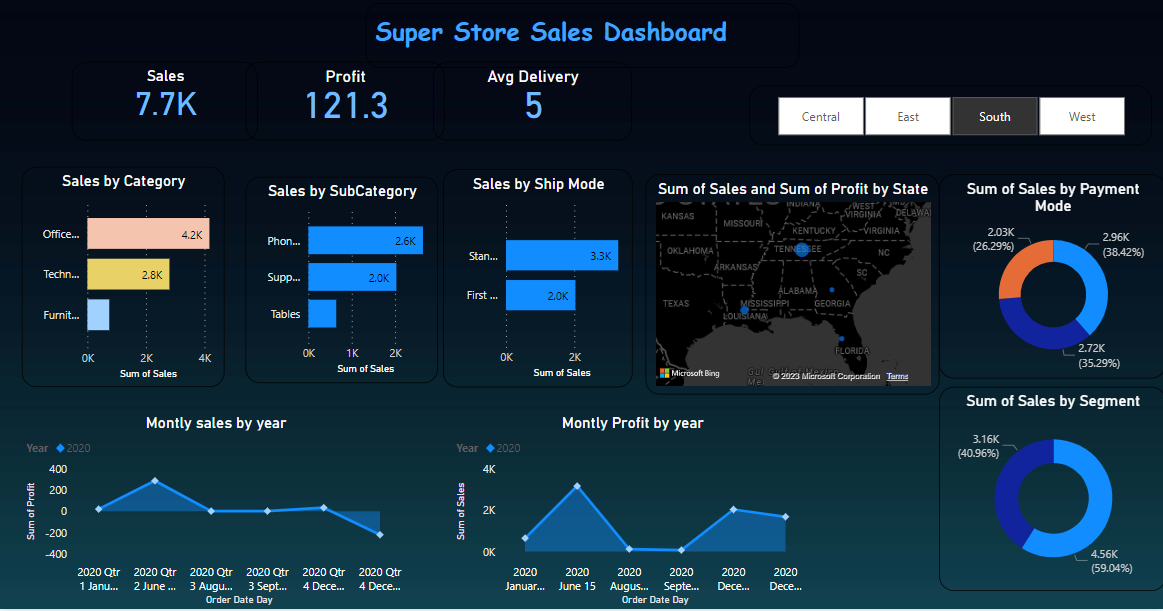

This screenshot's page, from the dashboard's own definition file:
{"tool":"powerbi","page":{"name":"Page 1","canvas":[1280,720],"ordinal":0},"visuals":[{"type":"clusteredBarChart","title":"Sales by Category","fields":{"Category":["Sheet1.Category"],"Y":["Sum(Sheet1.Sales)"]},"box":[26.4,234.7,222.2,241.7],"z":0},{"type":"clusteredBarChart","title":"Sales by SubCategory","fields":{"Y":["Sum(Sheet1.Sales)"],"Category":["Sheet1.Sub-Category"]},"box":[270.8,245.8,211.1,226.4],"z":1000},{"type":"clusteredBarChart","title":"Sales by Ship Mode","fields":{"Y":["Sum(Sheet1.Sales)"],"Category":["Sheet1.Ship Mode"]},"box":[487.5,237.5,208.3,238.9],"z":2000},{"type":"stackedAreaChart","title":"Montly Profit by year","fields":{"Y":["Sum(Sheet1.Sales)"],"Category":["Sheet1.Order Date.Variation.Date Hierarchy.Year","Sheet1.Order Date.Variation.Date Hierarchy.Month","Sheet1.Order Date.Variation.Date Hierarchy.Day"],"Series":["Sheet1.Order Date.Variation.Date Hierarchy.Year"]},"box":[497.2,504.2,397.2,215.3],"z":3000},{"type":"stackedAreaChart","title":"Montly sales by year","fields":{"Category":["Sheet1.Order Date.Variation.Date Hierarchy.Year","Sheet1.Order Date.Variation.Date Hierarchy.Quarter","Sheet1.Order Date.Variation.Date Hierarchy.Month","Sheet1.Order Date.Variation.Date Hierarchy.Day"],"Series":["Sheet1.Order Date.Variation.Date Hierarchy.Year"],"Y":["Sum(Sheet1.Profit)"]},"box":[26.4,504.2,426.4,215.3],"z":4000},{"type":"map","fields":{"Category":["Sheet1.State"],"Size":["Sum(Sheet1.Sales)"]},"box":[709.7,243.1,322.2,241.7],"z":5000},{"type":"donutChart","fields":{"Category":["Sheet1.Segment"],"Y":["Sum(Sheet1.Sales)"]},"box":[1032,476.4,248.6,223.6],"z":6000},{"type":"donutChart","fields":{"Y":["Sum(Sheet1.Sales)"],"Category":["Sheet1.Payment Mode"]},"box":[1032,243.1,248.6,223.6],"z":7000},{"type":"slicer","fields":{"Values":["Sheet1.Region"]},"box":[823.6,145.8,441.7,65.3],"z":8000},{"type":"textbox","box":[402.8,54.2,476.4,70.8],"z":9000},{"type":"card","title":"Sales","fields":{"Values":["Sum(Sheet1.Sales)"]},"box":[80.6,119.4,204.2,86.1],"z":10000},{"type":"card","title":"Profit","fields":{"Values":["Sum(Sheet1.Profit)"]},"box":[270.8,119.4,218.1,86.1],"z":11000},{"type":"card","title":"Avg Delivery","fields":{"Values":["Avg(Sheet1.AvgDelivery)"]},"box":[477.8,119.4,218.1,86.1],"z":12000}]}

Visuals, with their boxes on the page's 1280x720 design canvas (x1, y1, x2, y2). These are canvas units, not pixel positions in the 1163x611 screenshot, which may show the page scaled, cropped or inside an application window:
"Sales by Category" clusteredBarChart: select_region(26, 235, 249, 476)
"Sales by SubCategory" clusteredBarChart: select_region(271, 246, 482, 472)
"Sales by Ship Mode" clusteredBarChart: select_region(488, 238, 696, 476)
"Montly Profit by year" stackedAreaChart: select_region(497, 504, 894, 720)
"Montly sales by year" stackedAreaChart: select_region(26, 504, 453, 720)
map - Sheet1.State x Sum(Sheet1.Sales): select_region(710, 243, 1032, 485)
donutChart - Sheet1.Segment x Sum(Sheet1.Sales): select_region(1032, 476, 1281, 700)
donutChart - Sum(Sheet1.Sales) x Sheet1.Payment Mode: select_region(1032, 243, 1281, 467)
slicer - Sheet1.Region: select_region(824, 146, 1265, 211)
textbox: select_region(403, 54, 879, 125)
"Sales" card: select_region(81, 119, 285, 206)
"Profit" card: select_region(271, 119, 489, 206)
"Avg Delivery" card: select_region(478, 119, 696, 206)
